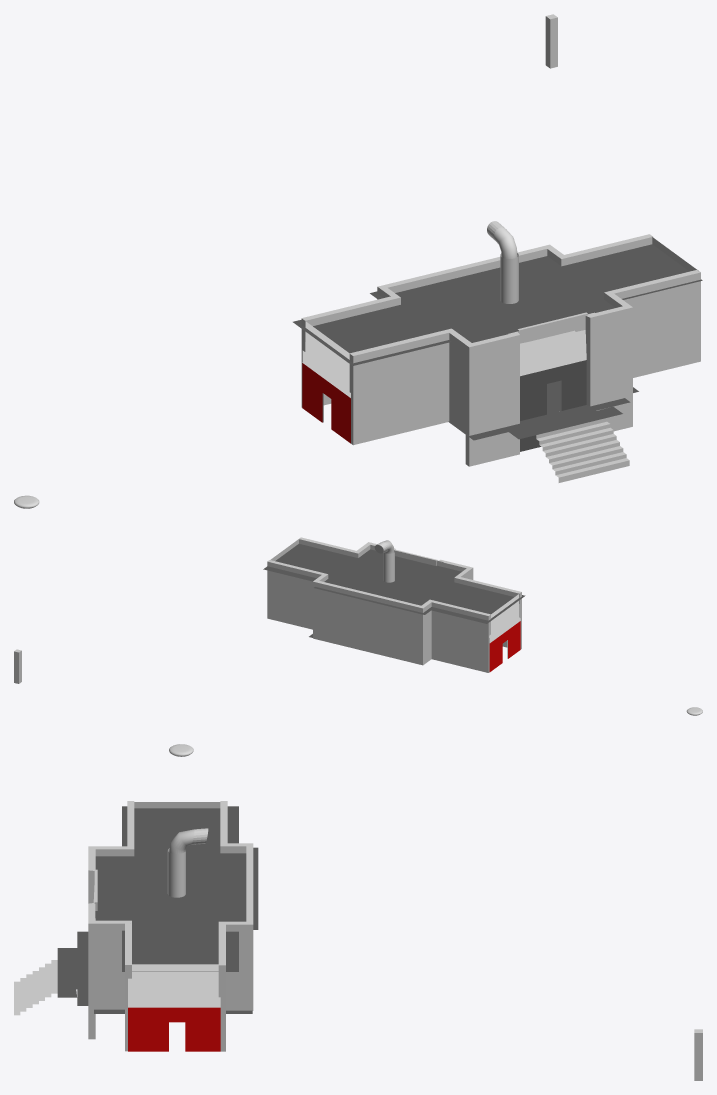
The model's file is Aumento Paredes.fbx.
3 renders of one model, top to bottom at view 1: azimuth 30°, elevation 25°; view 2: azimuth 150°, elevation 25°; view 3: azimuth 270°, elevation 25°, orthographic. The views are drawn at different scales.
Visible parts, largest first — view 1: polySurface120, polySurface115, polySurface118, polySurface141, Teto15, polySurface117, polySurface121, pCube4, Teto4, Teto5, Teto6, Teto16 (+9 smaller); view 2: polySurface110, polySurface108, polySurface112, Teto15, polySurface121, Teto5, Teto6, Teto4, Teto16, polySurface109, polySurface120, pCylinder3 (+3 smaller); view 3: polySurface114, Teto4, Teto15, Teto5, Teto6, polySurface116, Teto16, polySurface111, pCube4, pPlane28, pCylinder3, polySurface112 (+4 smaller).
Boxes of the visible parts, <box> form: polySurface120: <box>349,328,450,445</box>; polySurface115: <box>604,270,700,377</box>; polySurface118: <box>465,332,519,466</box>; polySurface141: <box>508,312,594,451</box>; Teto15: <box>400,273,603,334</box>; polySurface117: <box>585,306,632,431</box>; polySurface121: <box>302,321,350,443</box>; pCube4: <box>536,418,629,482</box>; Teto4: <box>370,256,573,315</box>; Teto5: <box>564,244,702,299</box>; Teto6: <box>293,307,439,365</box>; Teto16: <box>437,295,614,344</box>; polySurface110: <box>317,581,424,664</box>; polySurface108: <box>430,599,490,672</box>; polySurface112: <box>267,560,327,629</box>; Teto15: <box>333,559,462,600</box>; polySurface121: <box>489,594,520,672</box>; Teto5: <box>263,544,354,581</box>; Teto6: <box>431,585,525,623</box>; Teto4: <box>314,574,443,614</box>; Teto16: <box>352,549,465,586</box>; polySurface109: <box>419,599,432,665</box>; polySurface120: <box>454,577,521,649</box>; pCylinder3: <box>374,540,394,582</box>; polySurface114: <box>128,964,220,1051</box>; Teto4: <box>200,847,258,929</box>; Teto15: <box>141,847,199,929</box>; Teto5: <box>122,930,238,971</box>; Teto6: <box>122,806,238,847</box>; polySurface116: <box>88,920,131,1010</box>; Teto16: <box>95,847,141,929</box>; polySurface111: <box>220,921,253,1010</box>; pCube4: <box>14,960,57,1015</box>; pPlane28: <box>57,948,88,997</box>; pCylinder3: <box>167,828,208,897</box>; polySurface112: <box>218,921,225,1051</box>.
Bounding box in the file's own units: 54.91 × 11.71 × 41.9.
